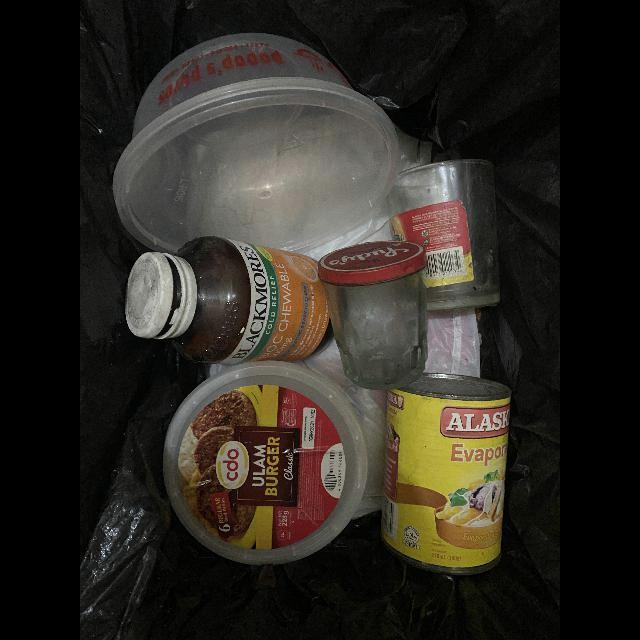aluminum: (380, 375, 513, 579)
glass_bottle: (125, 236, 334, 365), (387, 159, 503, 315), (319, 238, 428, 391)
plastic_container: (111, 33, 401, 254), (162, 362, 368, 567)
